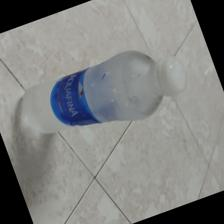Aquafina: (20, 51, 184, 138)
